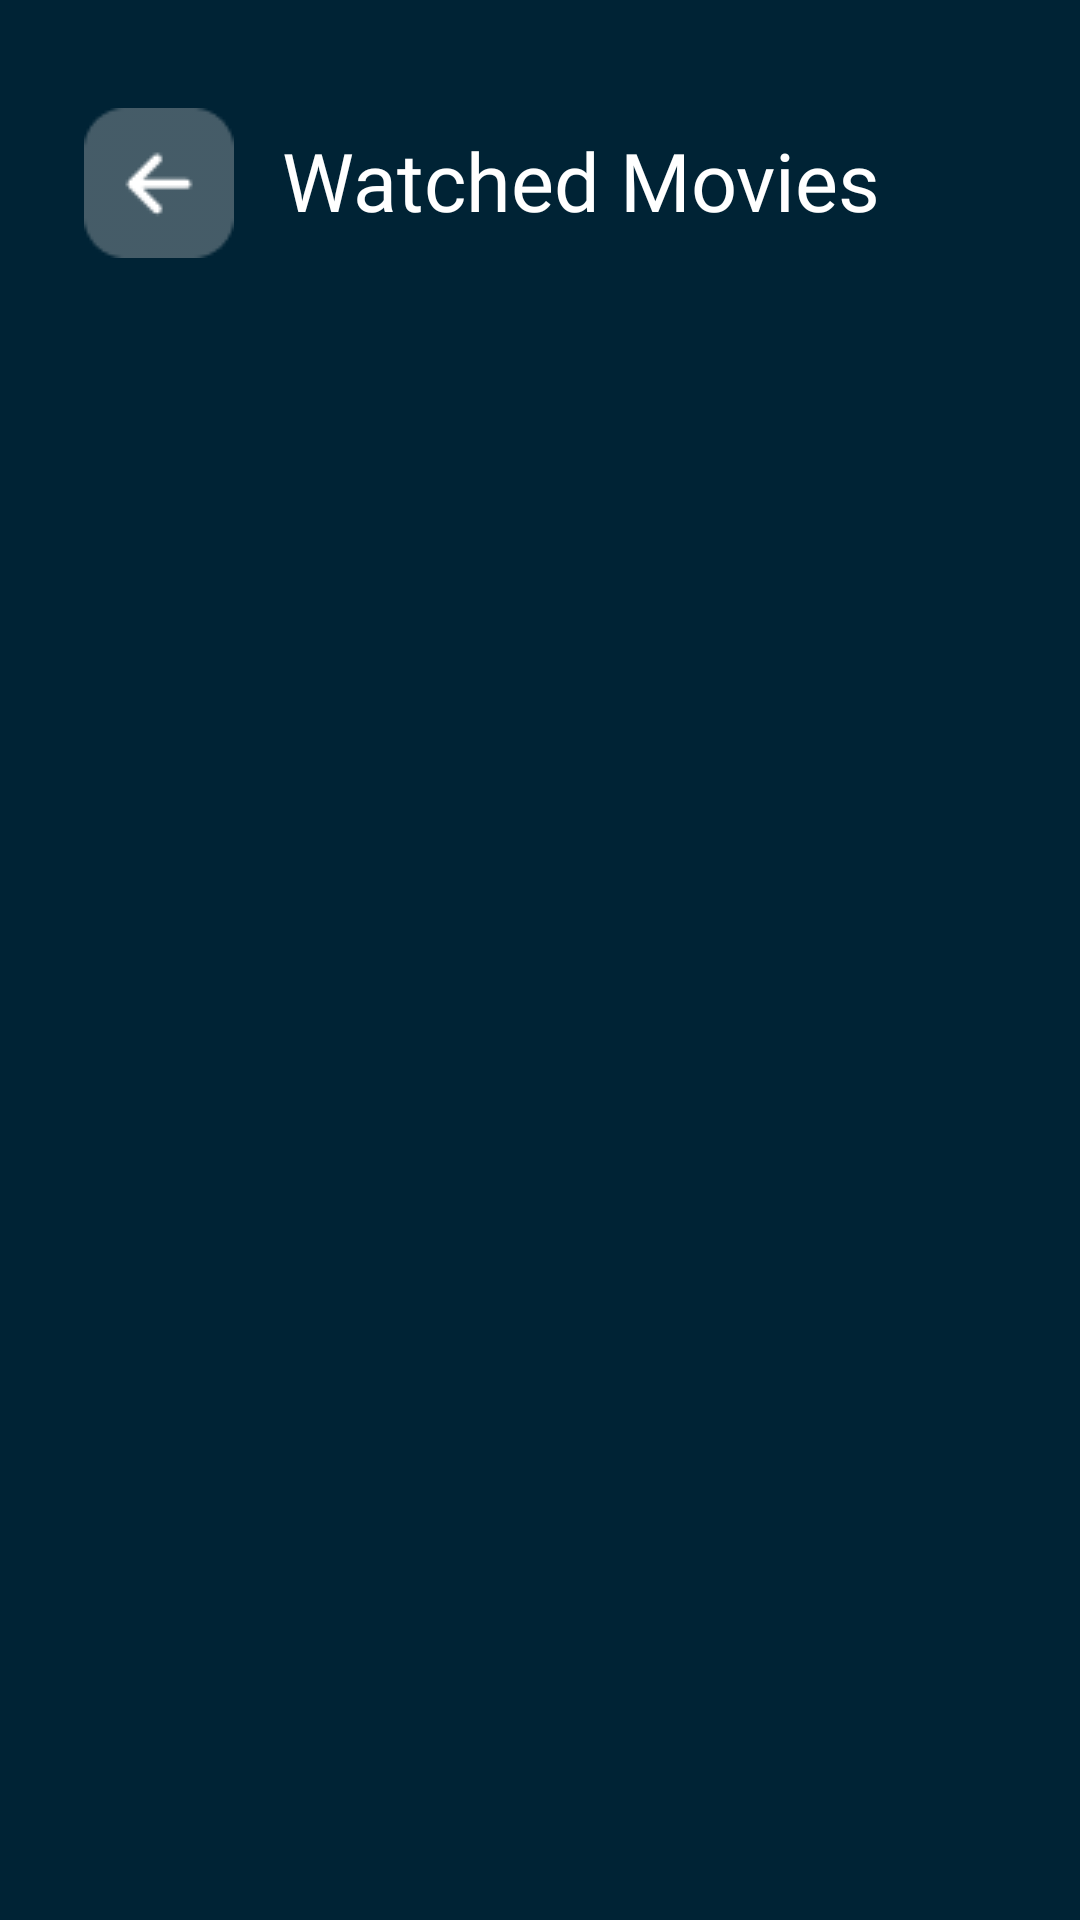

Screen size 1080×1920. Icon name, then its center in pixels as (x=x, y=y):
backbutton: (x=159, y=183)
